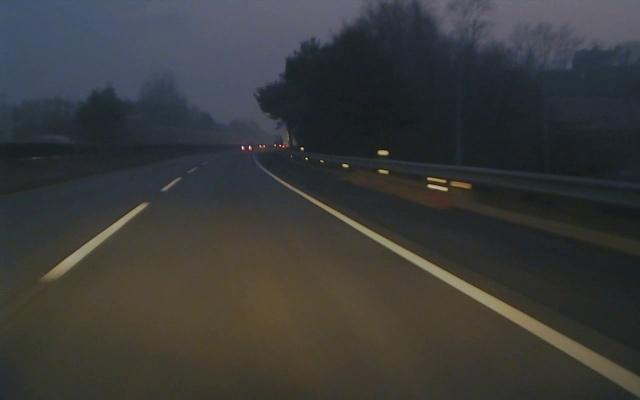lane: (276, 179, 640, 398), (41, 176, 182, 284)
